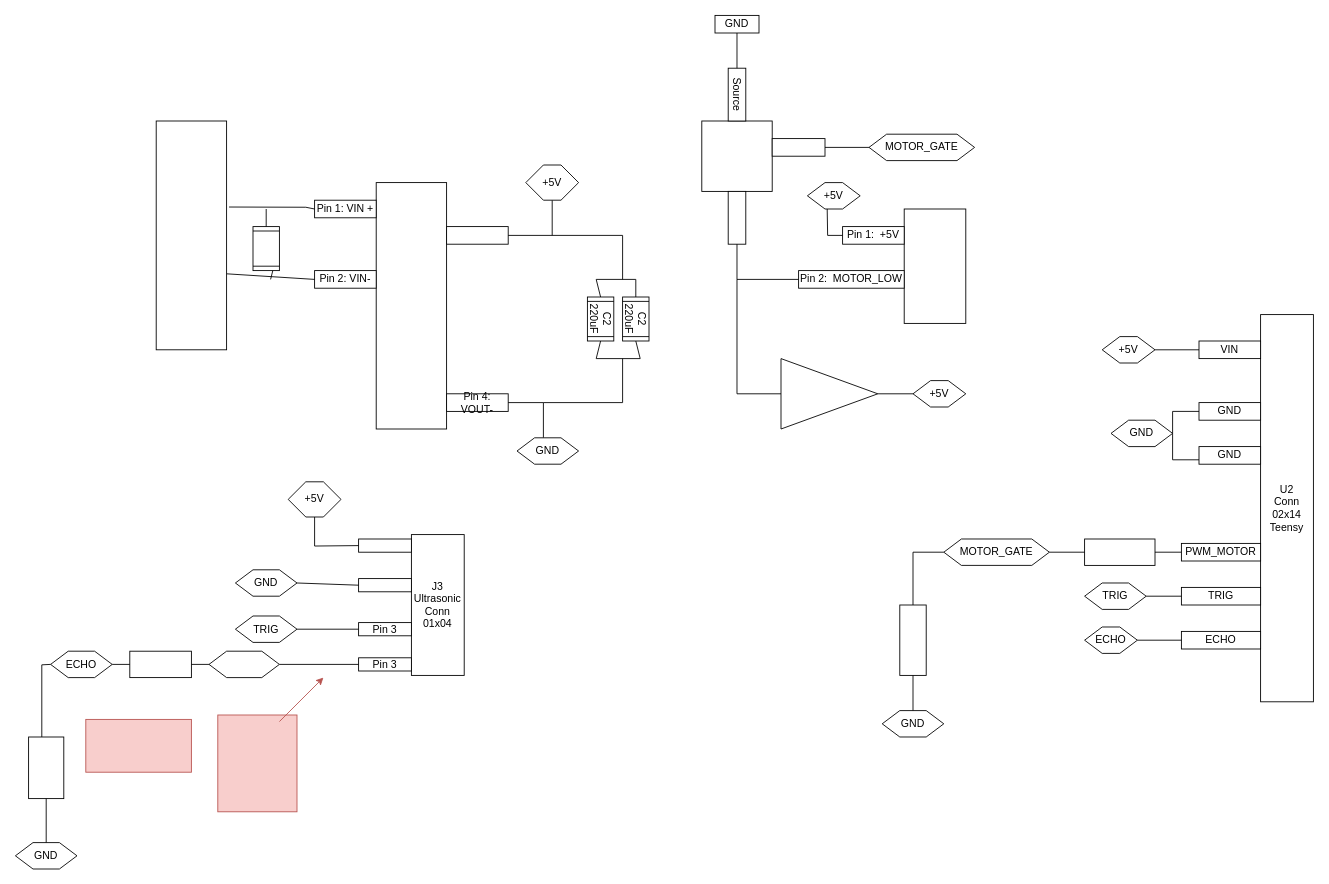
The diagram is 1329 pixels wide and 884 high, and some of its shapes have lost their labels. The centre of each missing label's shape, as x and y in pixels:
C1 100uF: the point at 265,248
D1 1N4001: the point at 829,393
Drain: the point at 736,217
ECHO_RAW: the point at 243,664
ECHO_RAW is a 5V signal, need 3.3 into the teensy: the point at 257,763
Gate: the point at 798,147
J1 Conn_01x02 Pin 1: +24V Pin 2: GND: the point at 191,235
J2 Motor out Conn 01x02: the point at 934,265
Pin 1: the point at 384,545
Pin 2: the point at 384,585
Pin 3: VOUT+: the point at 477,235
Q1 IRLZ44N Mosfet: the point at 736,155
R1 100 ohms: the point at 1119,551
R2 100k ohms: the point at 912,639
R3 10k ohms: the point at 160,664
R4 20k ohms: the point at 46,767
SMD30 (DC/DC converter: the point at 411,305
Vout = 5V x (20k/(20k + 10k)) = 3.3ish: the point at 138,745
